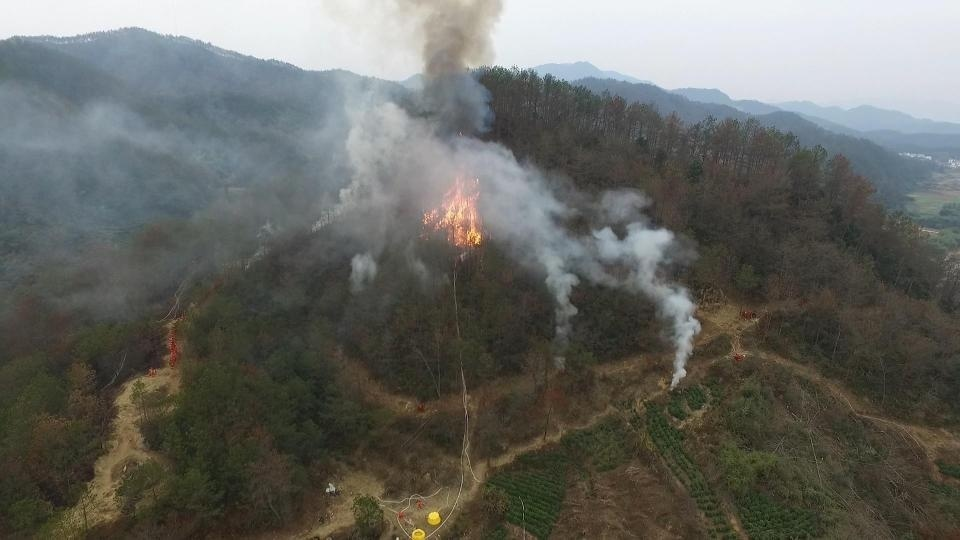fire: (414, 166, 494, 251)
